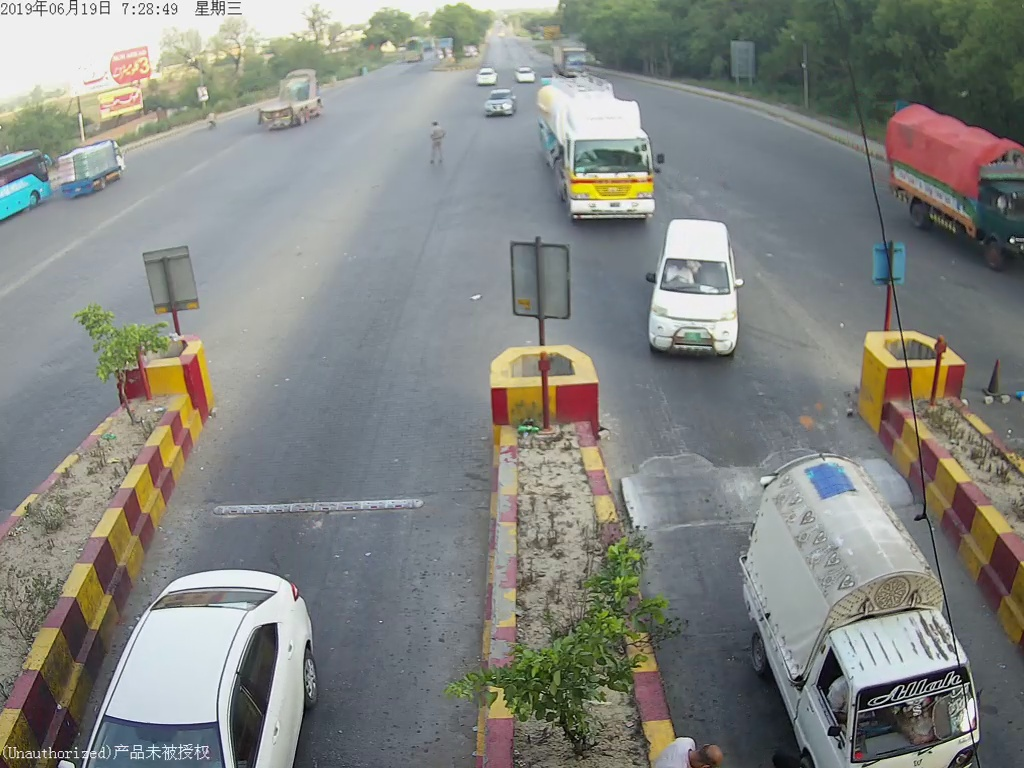Cat-1: (745, 447, 983, 767), (648, 222, 748, 350)
Cat-5: (536, 91, 652, 226)
